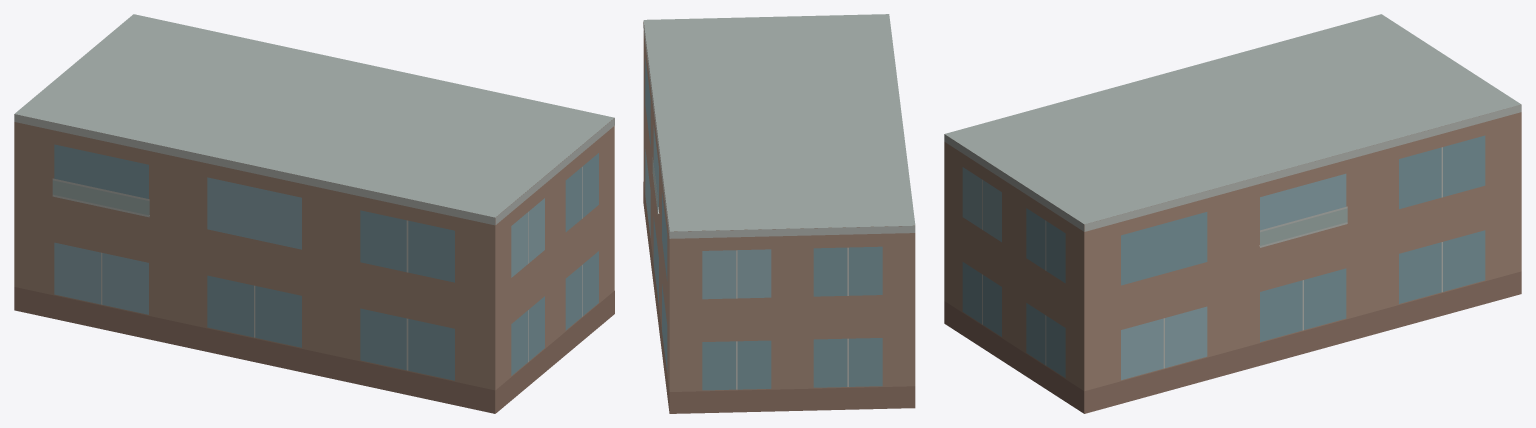
Rendered from survey-upis-32721353.glb.
3 renders of one model, left to right at view 1: azimuth 30°, elevation 25°; view 2: azimuth 150°, elevation 25°; view 3: azimuth 270°, elevation 25°, orthographic. The views are drawn at different scales.
Parts seen in each view (by area): view 1: survey-upis-32721353.tmp; view 2: survey-upis-32721353.tmp; view 3: survey-upis-32721353.tmp.
Part boxes in pixels (x1=…): survey-upis-32721353.tmp: x1=14, y1=14, x2=614, y2=413; survey-upis-32721353.tmp: x1=643, y1=14, x2=915, y2=413; survey-upis-32721353.tmp: x1=944, y1=14, x2=1521, y2=413.
Size of the model in its own units: 14.54 by 6.1 by 16.86.
